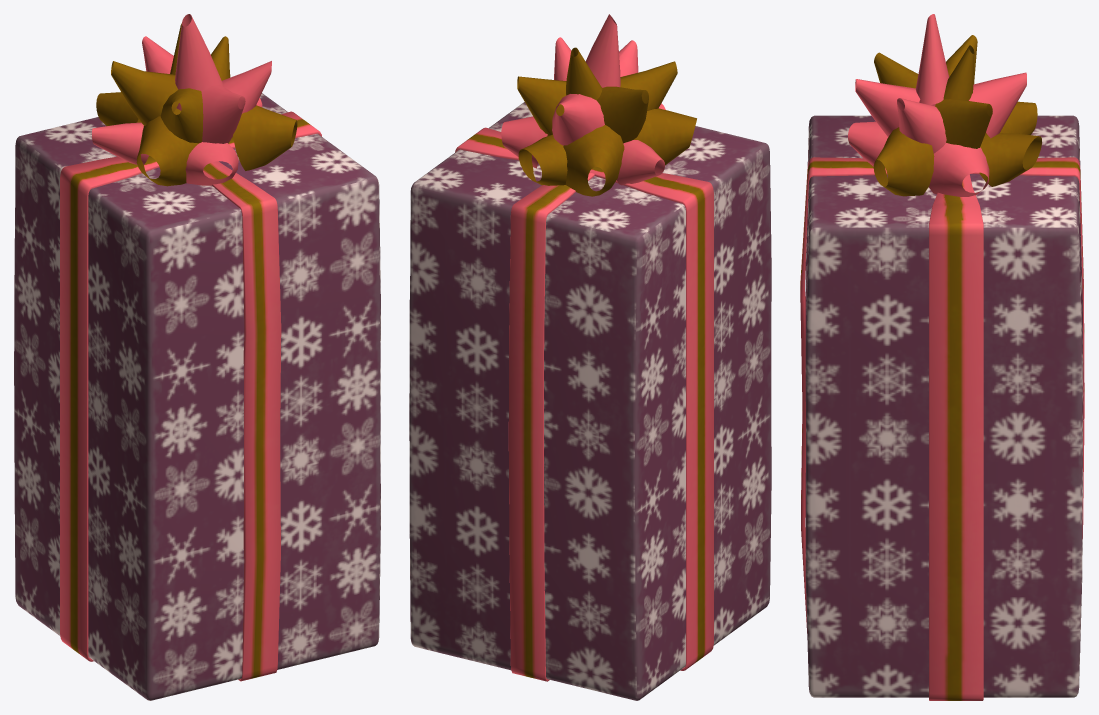
Rendered from Gift0303.gltf.
3 views of the same model, side by side, from view 1: azimuth 30°, elevation 25°; view 2: azimuth 150°, elevation 25°; view 3: azimuth 270°, elevation 25° (orthographic).
Visible parts, largest first — view 1: Present; view 2: Present; view 3: Present.
Boxes of the visible parts, bbox=[...] form: Present: bbox=[14, 14, 380, 700]; Present: bbox=[409, 14, 771, 700]; Present: bbox=[800, 14, 1084, 700].
Size of the model in its own units: 0.0676 by 0.1705 by 0.0703.
1 material, 1 textured.
